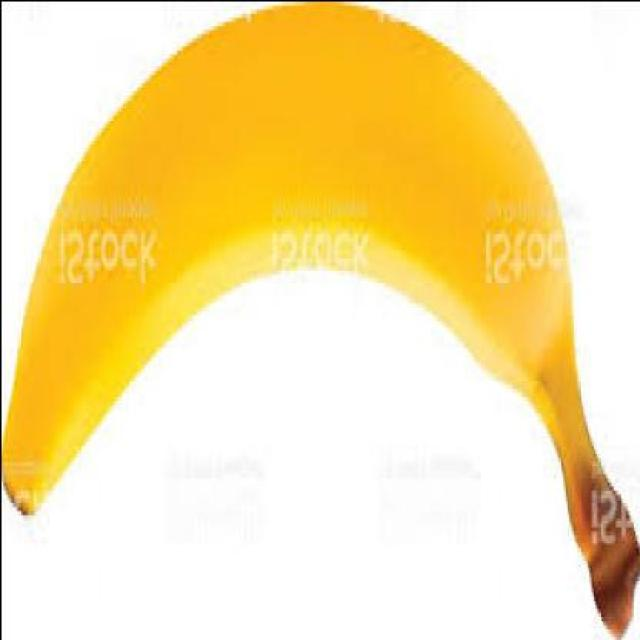BIODEGRADABLE: (4, 3, 640, 633)
